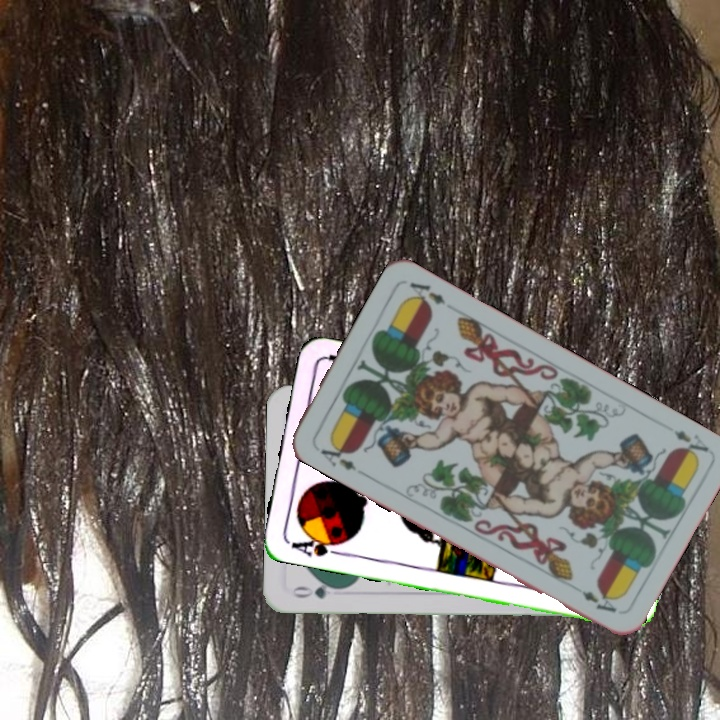EA: (657, 419, 712, 462), (316, 437, 359, 473)
GO: (288, 578, 347, 602)
SA: (287, 530, 347, 559)
